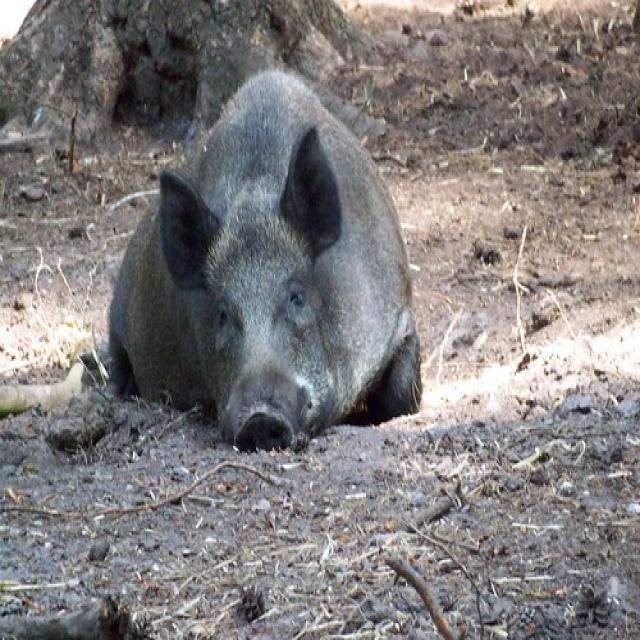boar: (61, 31, 444, 504)
